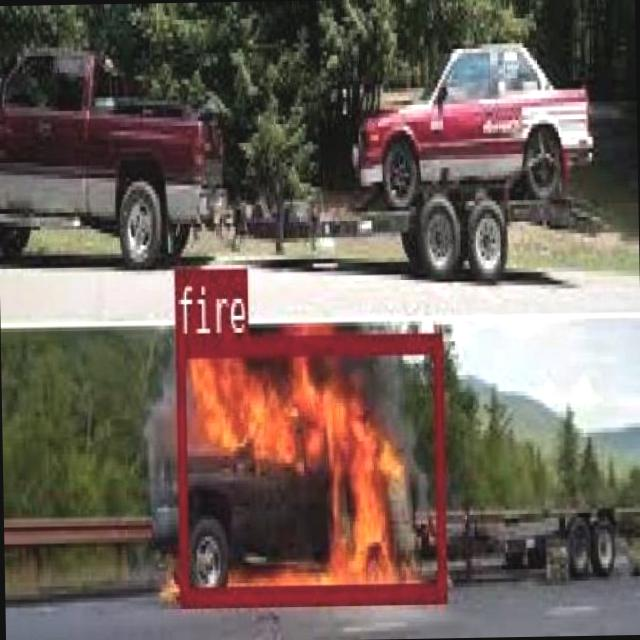fire: (174, 328, 445, 602)
